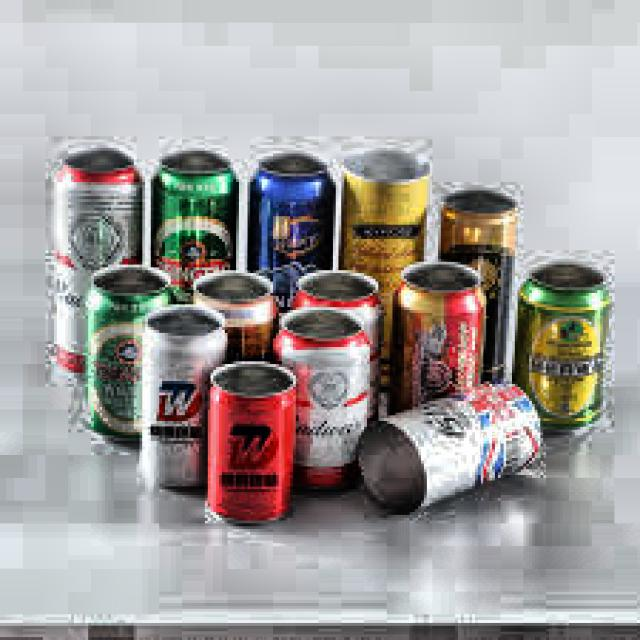can: (350, 379, 548, 520), (50, 139, 153, 386), (508, 246, 619, 440), (272, 302, 379, 499), (386, 256, 491, 431), (436, 184, 522, 396), (88, 255, 180, 448), (140, 307, 229, 494), (290, 261, 382, 436), (205, 357, 299, 528), (338, 142, 437, 279), (145, 146, 243, 281), (246, 146, 340, 280), (190, 263, 282, 359)
